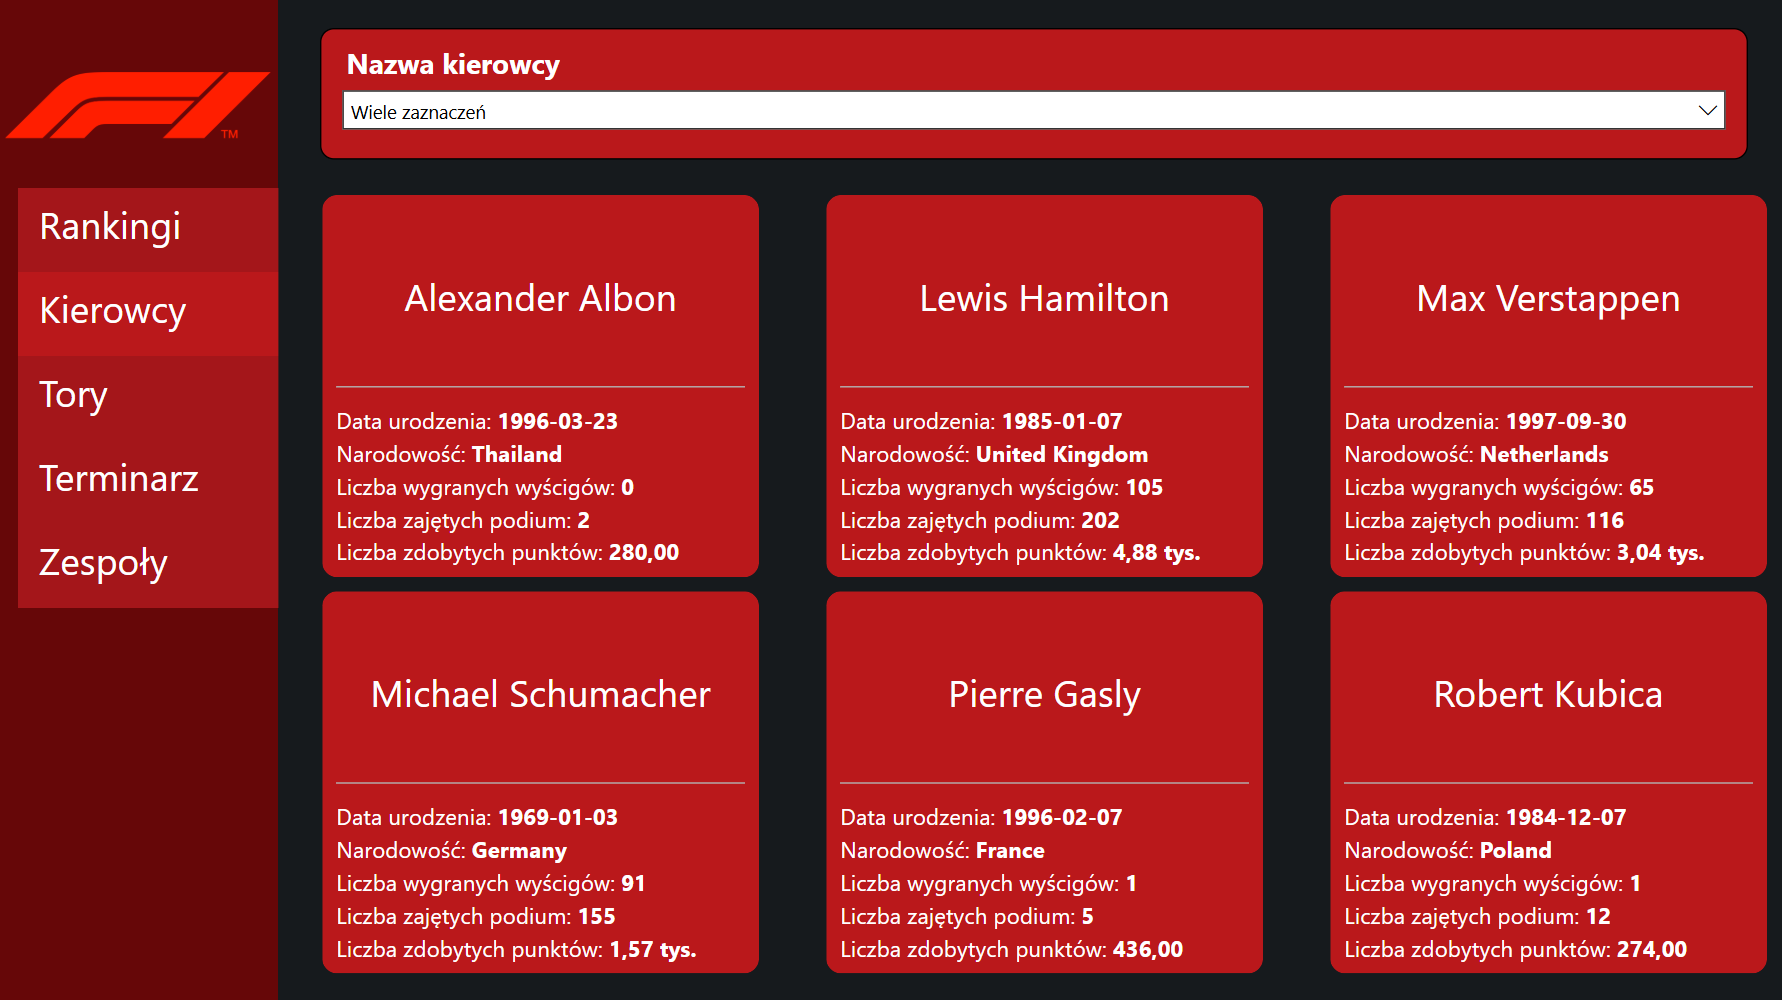

What the dashboard file says about the page in this screenshot:
{"tool":"powerbi","page":{"name":"Kierowcy","canvas":[1280,720],"ordinal":1},"visuals":[{"type":"shape","box":[0,0,200,720],"z":0},{"type":"cardVisual","fields":{"Rows":["DWH dim_driver.driver_name"],"Data":["Min(DWH dim_driver.driver_name)"]},"box":[188,134,1080,566],"z":1000},{"type":"slicer","fields":{"Values":["DWH dim_driver.driver_name"]},"box":[230,20,1020,94],"z":2000},{"type":"pageNavigator","box":[14,134,186,300],"z":3000},{"type":"image","box":[0,0,200,150],"z":4000}]}

Visuals, with their boxes in screenshot pixels (x1, y1, x2, y2), scaled from the page's 1280x720 canvas onto the 1782x1000 screenshot:
shape: left=0, top=0, right=278, bottom=999
cardVisual - DWH dim_driver.driver_name x Min(DWH dim_driver.driver_name): left=262, top=186, right=1765, bottom=972
slicer - DWH dim_driver.driver_name: left=320, top=28, right=1740, bottom=158
pageNavigator: left=19, top=186, right=278, bottom=603
image: left=0, top=0, right=278, bottom=208
